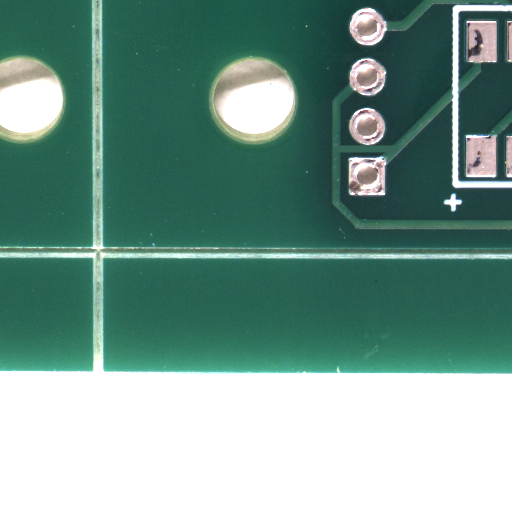Short: (365, 149, 424, 160)
